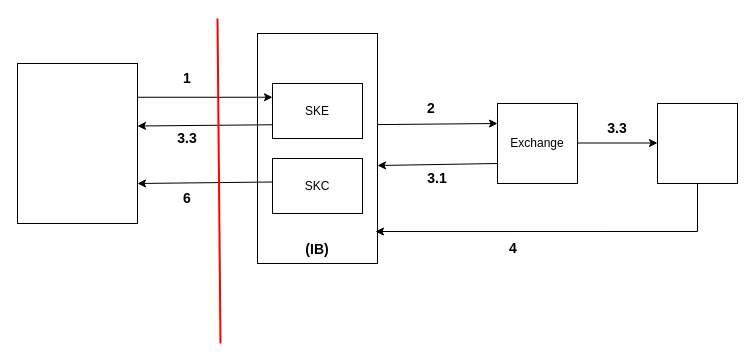
The diagram is 755 pixels wide and 362 high, and some of its shapes have lost their labels. Each missing label, with the box of its shape:
CCP: (656, 102, 738, 184)
Client (WM UK/JE): (16, 62, 138, 224)
